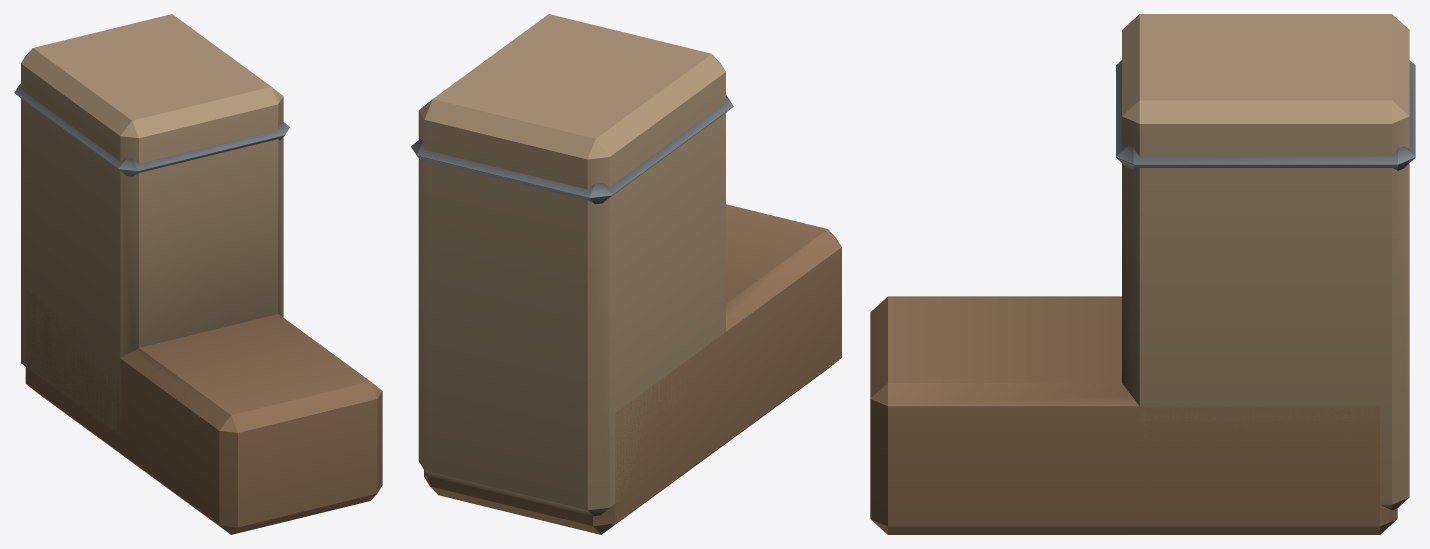
The model's file is FishBoot.fbx.
3 renders of one model, left to right at view 1: azimuth 30°, elevation 25°; view 2: azimuth 150°, elevation 25°; view 3: azimuth 270°, elevation 25°, orthographic. The views are drawn at different scales.
Parts seen in each view (by area): view 1: Body; view 2: Body; view 3: Body.
Part boxes in pixels (x1,y1,x2,y2): Body: [14, 14, 382, 534]; Body: [411, 14, 841, 534]; Body: [870, 14, 1415, 534].
Size of the model in its own units: 0.21 by 0.4 by 0.455.
